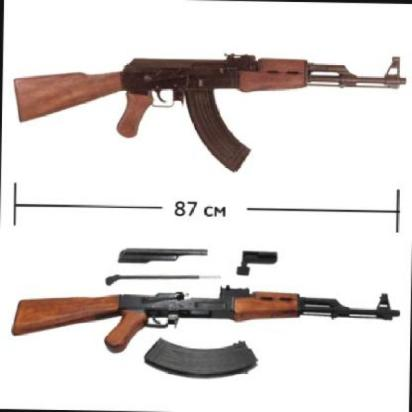Gun: (9, 32, 405, 186), (10, 260, 396, 402)
